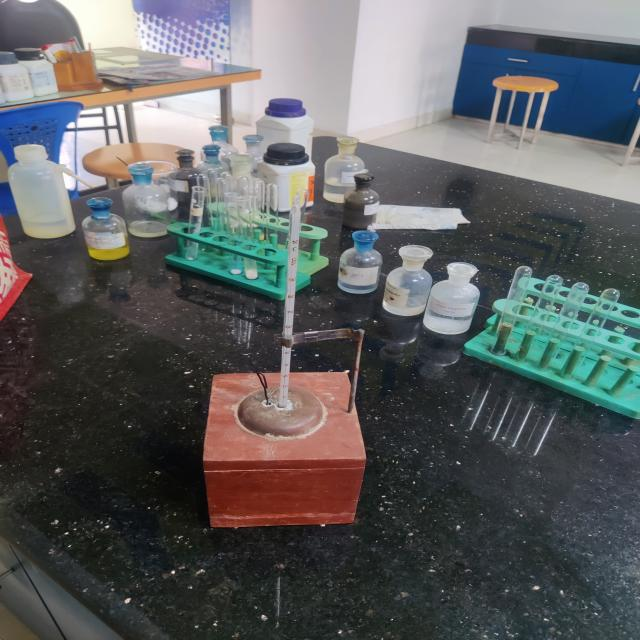Calorimeter: (166, 160, 416, 586)
